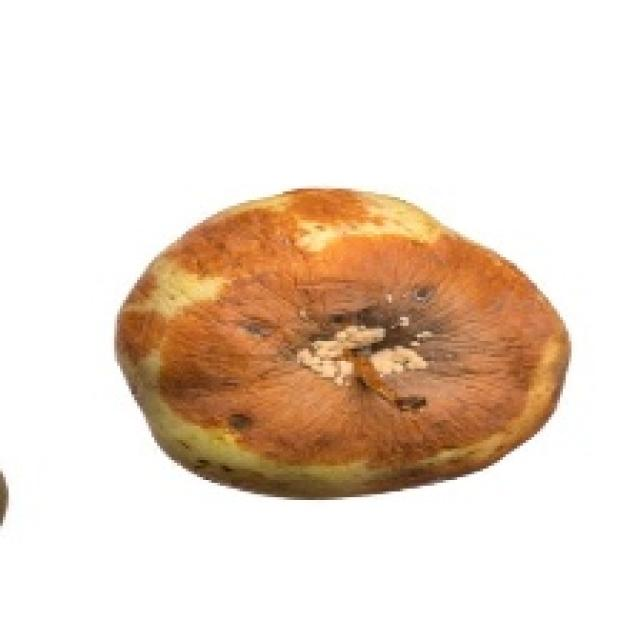rotten_apple: (123, 192, 560, 488)
